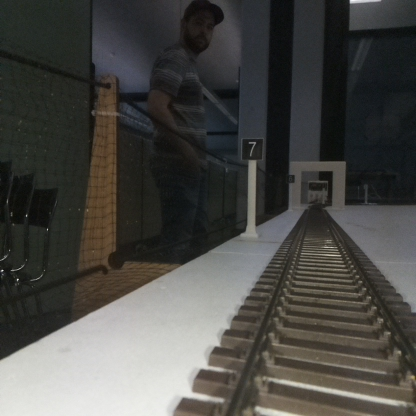black-info-6: (286, 175, 294, 211)
black-info-7: (241, 138, 262, 238)
